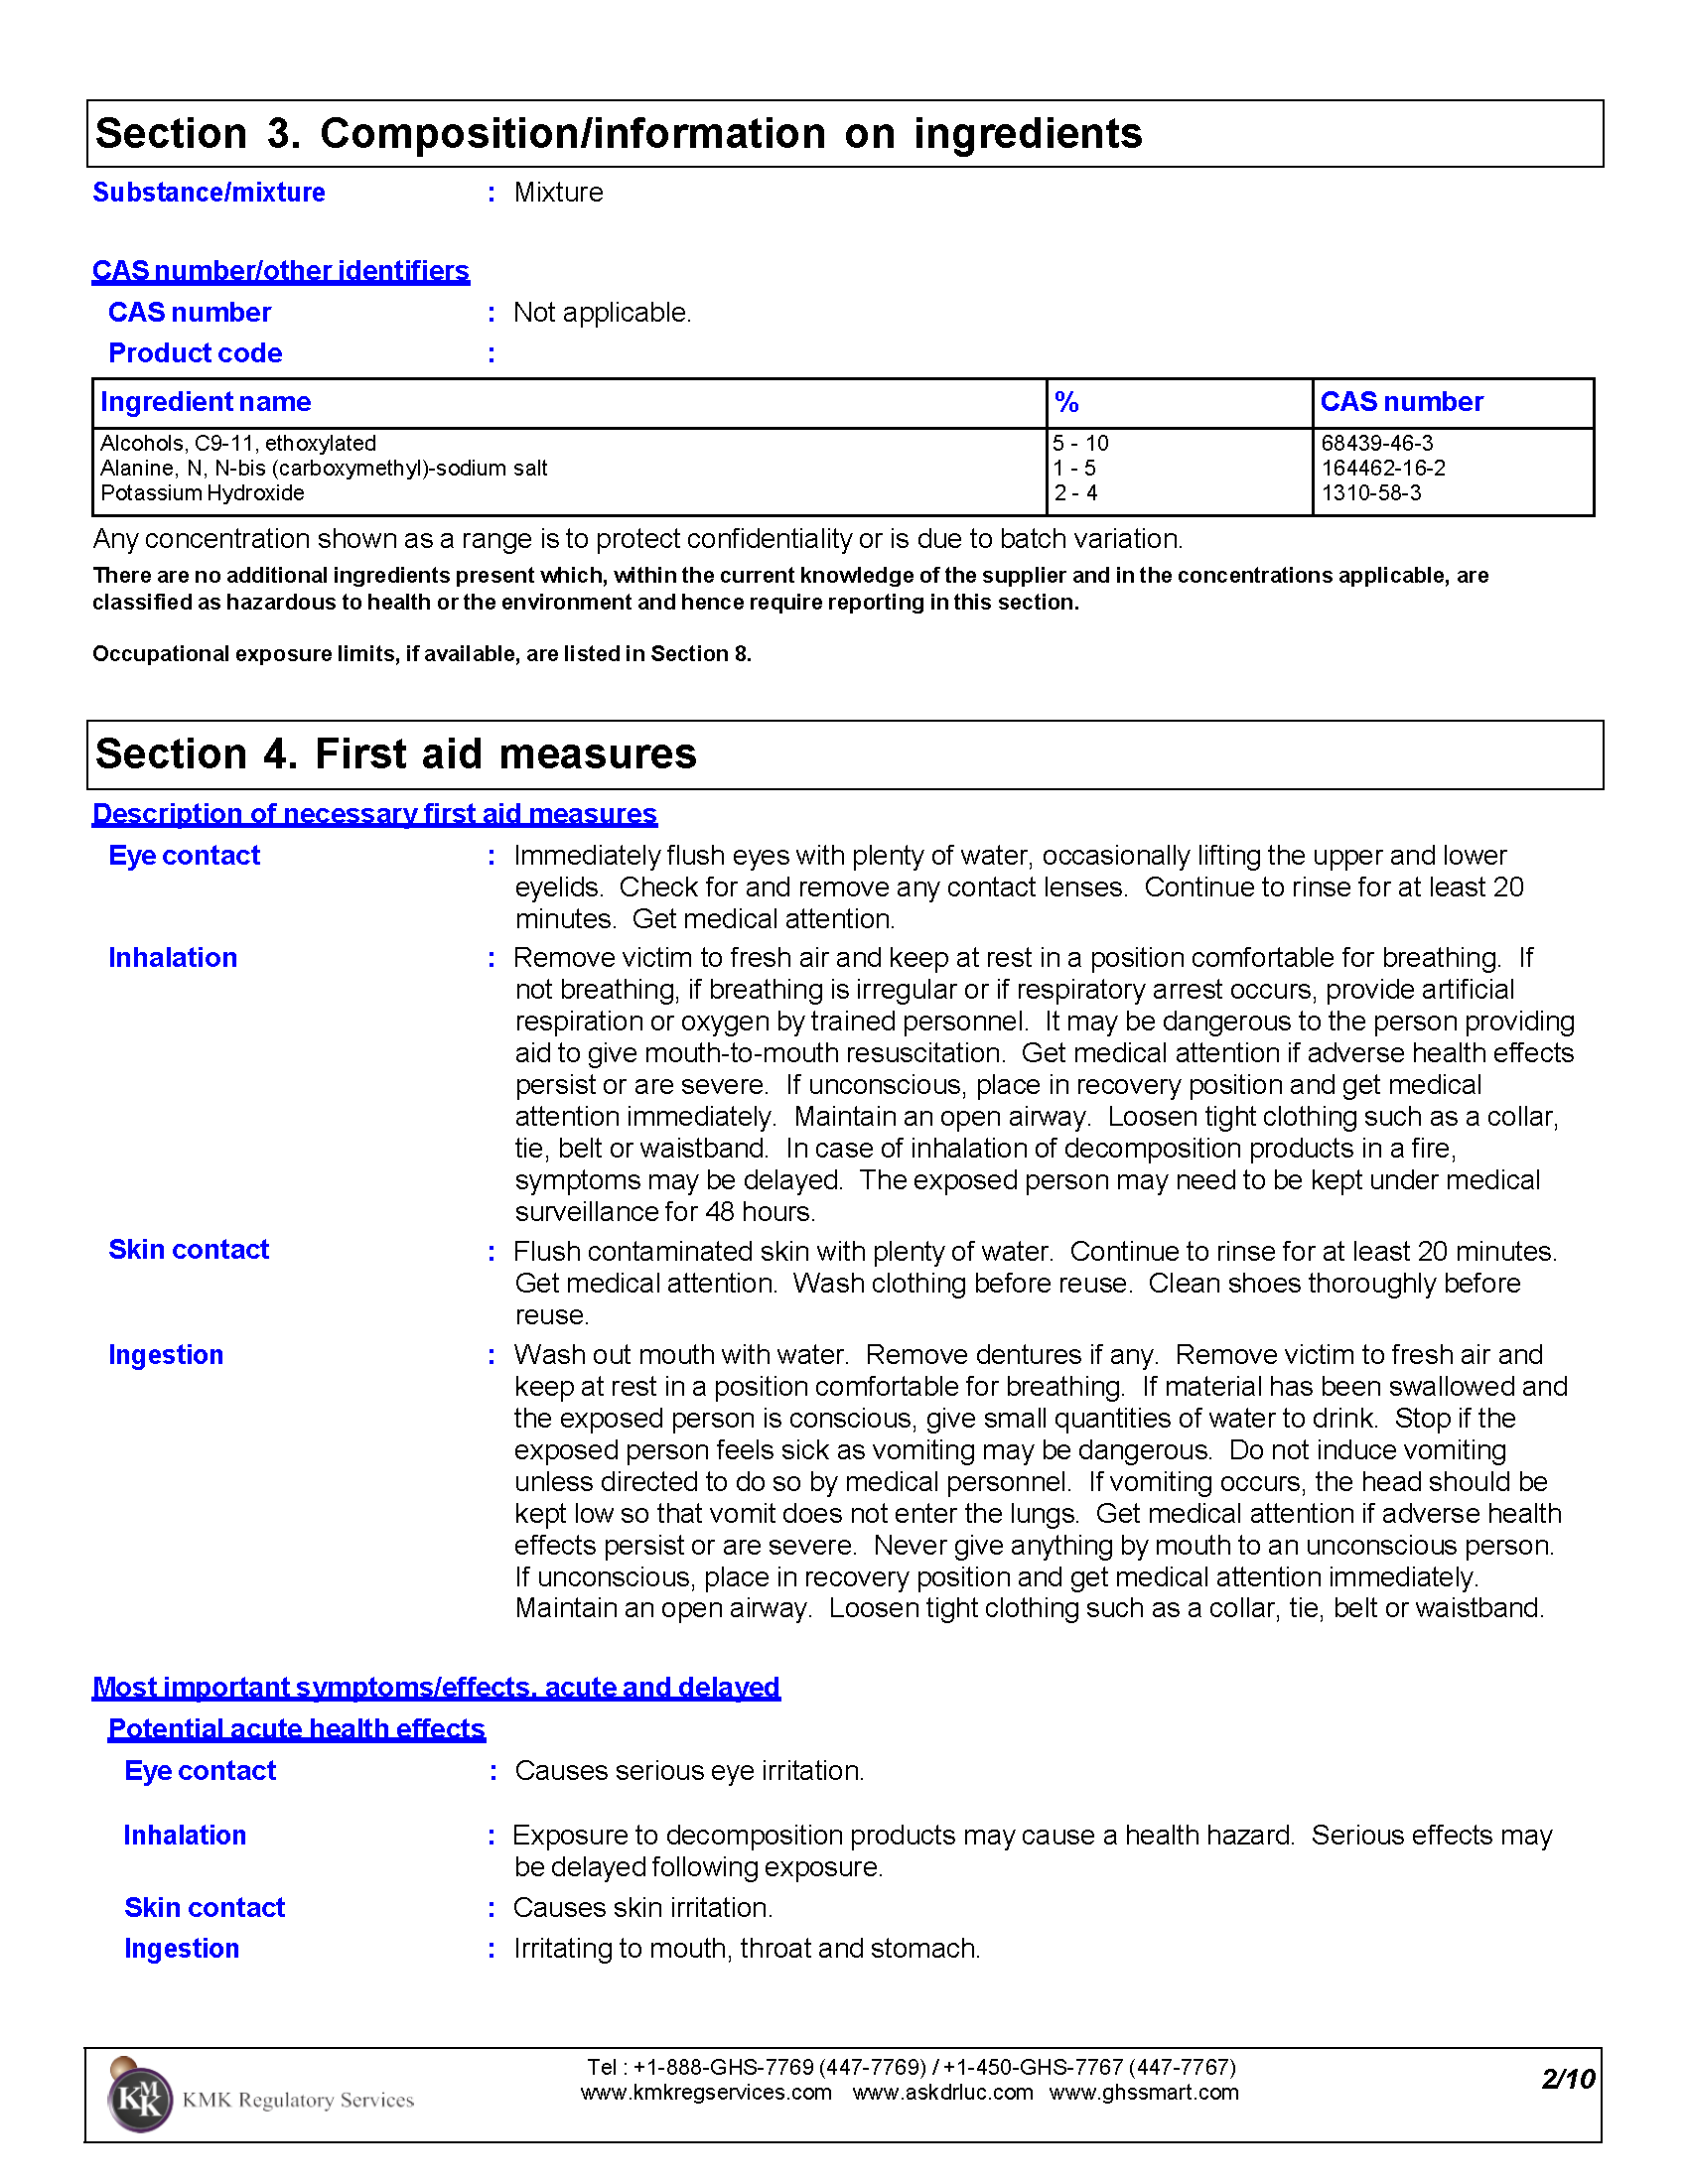table: (103, 837, 1582, 1631), (117, 1755, 1557, 1973), (92, 378, 1594, 516)
